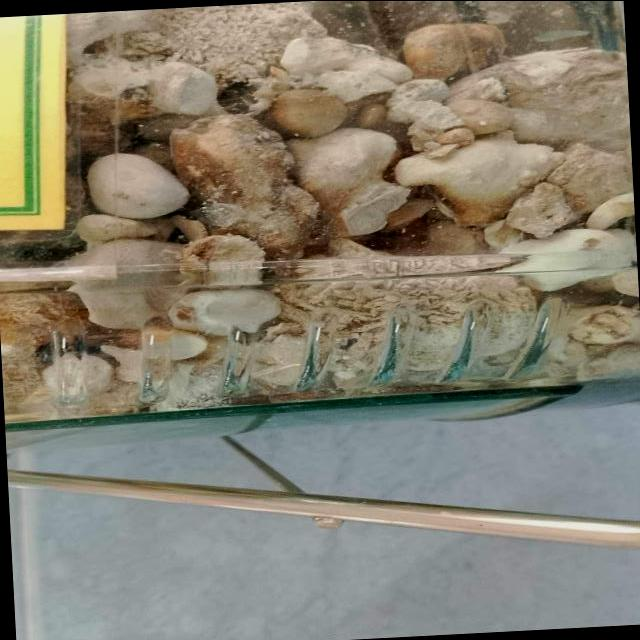Pathological: (1, 0, 638, 434)
Sharps: (6, 464, 639, 549), (0, 226, 636, 295)
